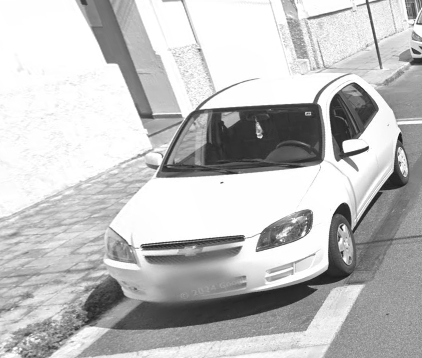car: (97, 66, 416, 313)
